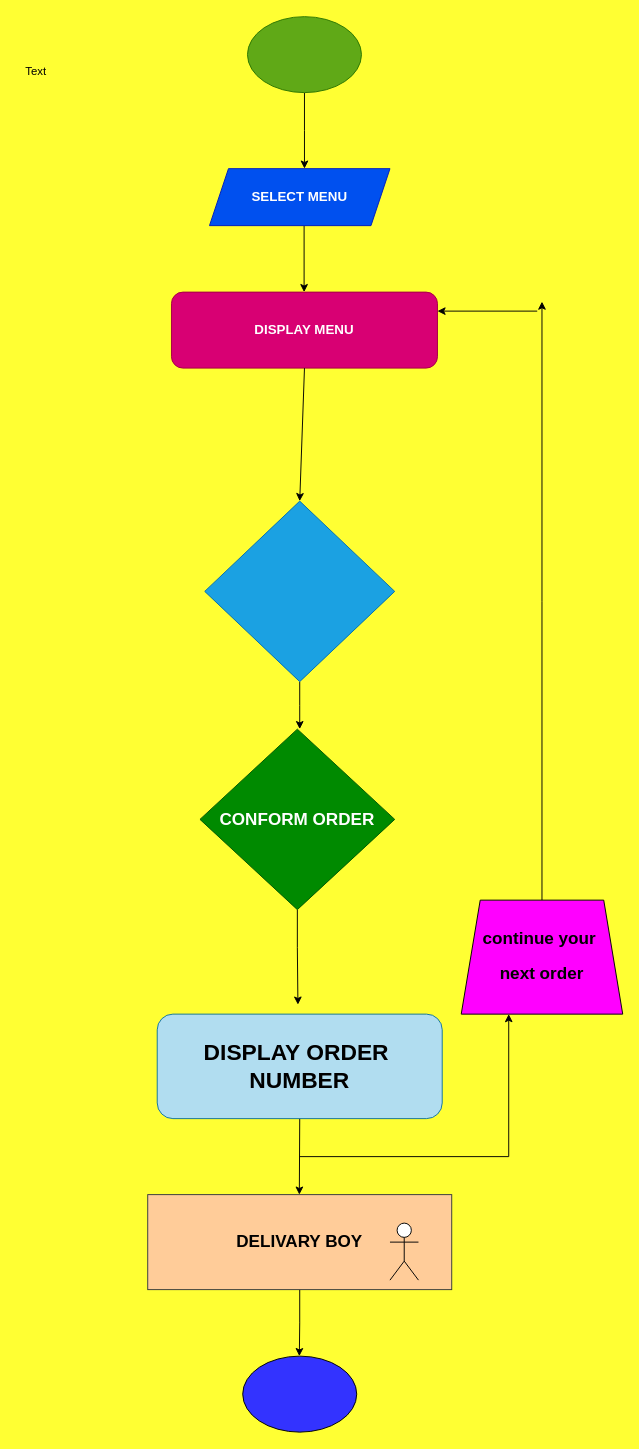
This 639x1449 diagram has some shape labels left out. Each missing label, with the centre of its shape:
"END" goes at [299,1393].
"SELECT FOOD" goes at [299,591].
"START" goes at [304,54].
